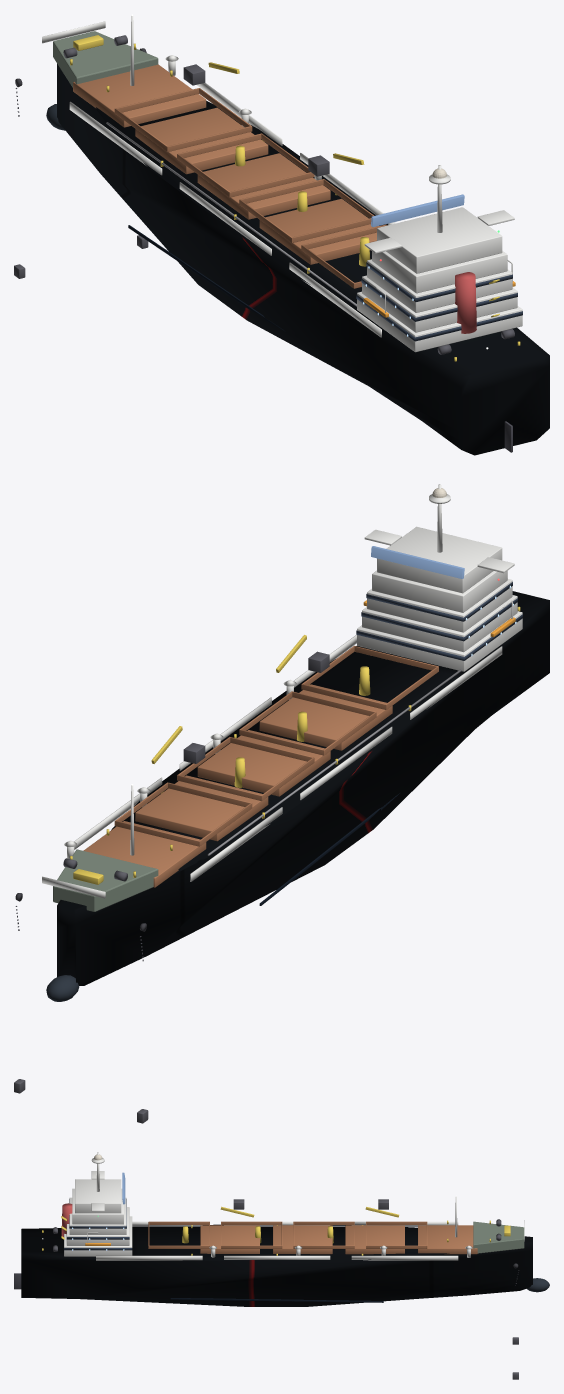
The model's file is ShipHull_VR_v3.1.glb.
3 views of the same model, one above another, from view 1: azimuth 30°, elevation 25°; view 2: azimuth 150°, elevation 25°; view 3: azimuth 270°, elevation 25° (orthographic). The views are drawn at different scales.
Parts seen in each view (by area): view 1: ship_hull, super_deck_5, cargo_hatch_1, cargo_hatch_2, cargo_hatch_3, cargo_hatch_4, forecastle, super_deck_1, super_deck_4, super_deck_2, super_deck_3, funnel (+15 smaller); view 2: ship_hull, super_deck_5, cargo_hatch_2, cargo_hatch_3, cargo_hatch_4, forecastle, cargo_hatch_1, super_deck_1, super_deck_4, super_deck_2, super_deck_3, bridge_front_window_band (+4 smaller); view 3: ship_hull, cargo_hatch_2, cargo_hatch_1, cargo_hatch_3, super_deck_5, cargo_hatch_4, forecastle, super_deck_4, super_deck_1, super_deck_3, bulwark_starboard_seg_1, bulwark_starboard_seg_3 (+3 smaller).
Part boxes in pixels (box(x1,y1,x2,y2)): ship_hull: box(57, 63, 549, 455); super_deck_5: box(377, 207, 502, 273); cargo_hatch_1: box(73, 64, 206, 127); cargo_hatch_2: box(135, 107, 268, 174); cargo_hatch_3: box(197, 153, 330, 219); cargo_hatch_4: box(259, 198, 378, 264); forecastle: box(53, 31, 158, 87); super_deck_1: box(357, 291, 522, 352); super_deck_4: box(372, 251, 507, 293); super_deck_2: box(362, 275, 517, 332); super_deck_3: box(367, 259, 512, 312); funnel: box(455, 272, 476, 333); ship_hull: box(57, 591, 549, 985); super_deck_5: box(377, 526, 502, 593); cargo_hatch_2: box(135, 775, 268, 841); cargo_hatch_3: box(197, 730, 330, 796); cargo_hatch_4: box(259, 684, 392, 750); forecastle: box(53, 849, 158, 911); cargo_hatch_1: box(83, 821, 206, 887); super_deck_1: box(357, 611, 522, 671); super_deck_4: box(372, 570, 507, 612); super_deck_2: box(362, 595, 517, 652); super_deck_3: box(367, 579, 512, 632); bridge_front_window_band: box(371, 546, 464, 578); ship_hull: box(21, 1224, 532, 1306); cargo_hatch_2: box(345, 1225, 404, 1254); cargo_hatch_1: box(418, 1225, 477, 1254); cargo_hatch_3: box(273, 1225, 332, 1254); super_deck_5: box(75, 1179, 121, 1213); cargo_hatch_4: box(200, 1225, 259, 1253); forecastle: box(473, 1221, 524, 1253); super_deck_4: box(72, 1188, 123, 1224); super_deck_1: box(64, 1216, 132, 1256); super_deck_3: box(69, 1197, 126, 1234); bulwark_starboard_seg_1: box(96, 1255, 202, 1260); bulwark_starboard_seg_3: box(351, 1255, 458, 1260).
Bounding box in the file's own units: 22 × 54.05 × 126.
Materials: 34 (1 with a texture image).
